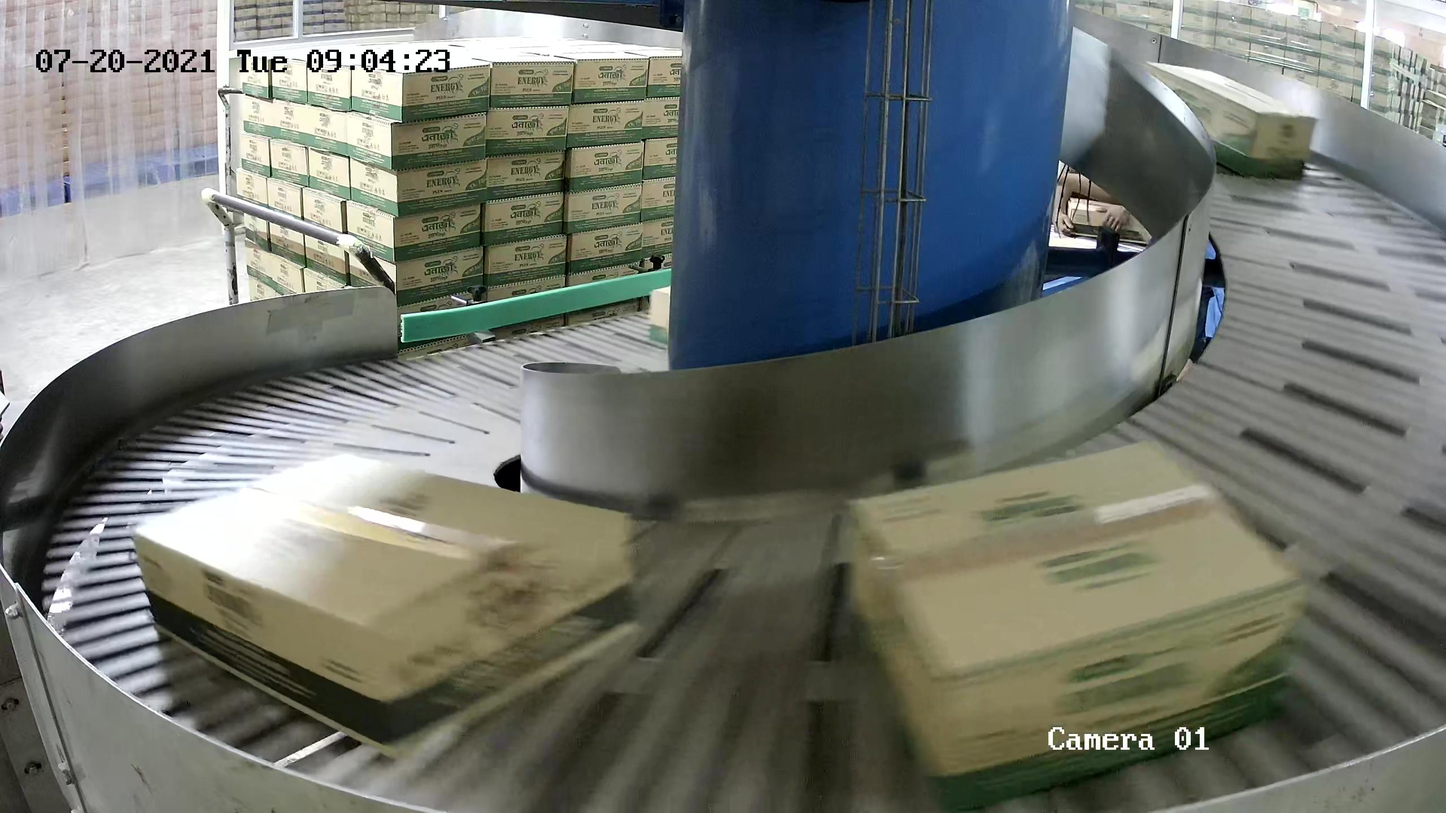Box: (843, 440, 1304, 813), (131, 451, 643, 754), (1133, 62, 1320, 182)
